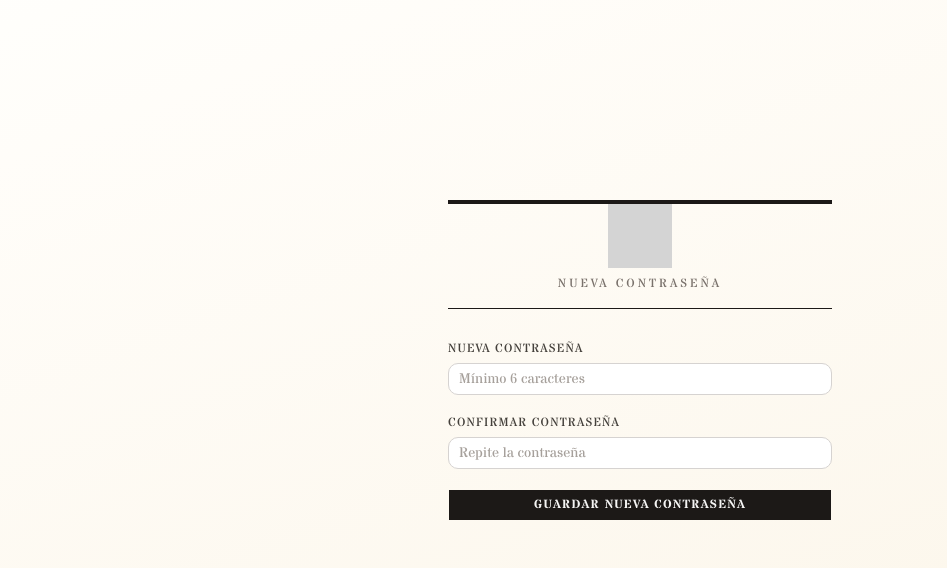
it: ResetPassword › shows error when passwords do not match
The width and height of the screenshot is (947, 568).
Type "password1" into the password field with placeholder "Mínimo 6 caracteres" at coordinates (640, 378), box [448,362,832,394]
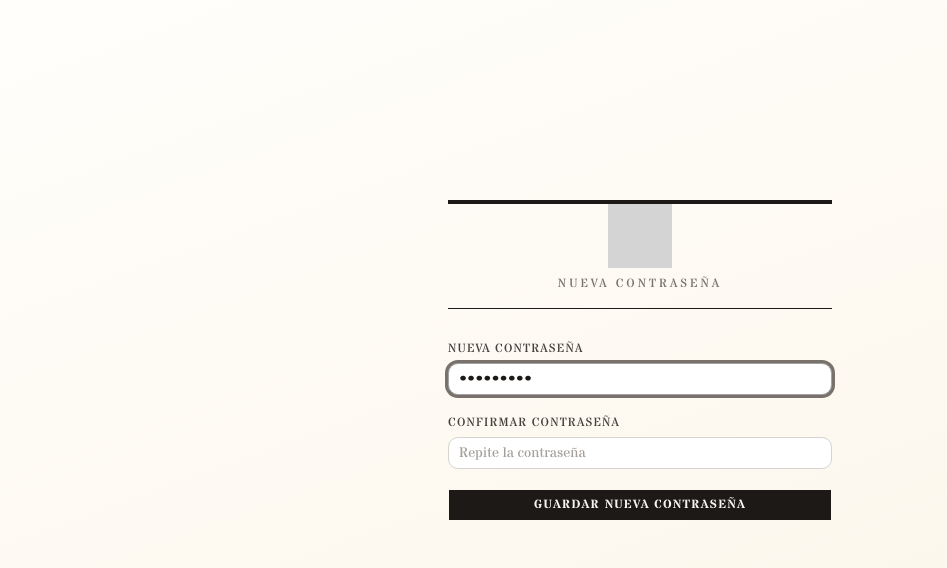
Type "different" into the password field with placeholder "Repite la contraseña" at coordinates (640, 452), box [448,436,832,468]
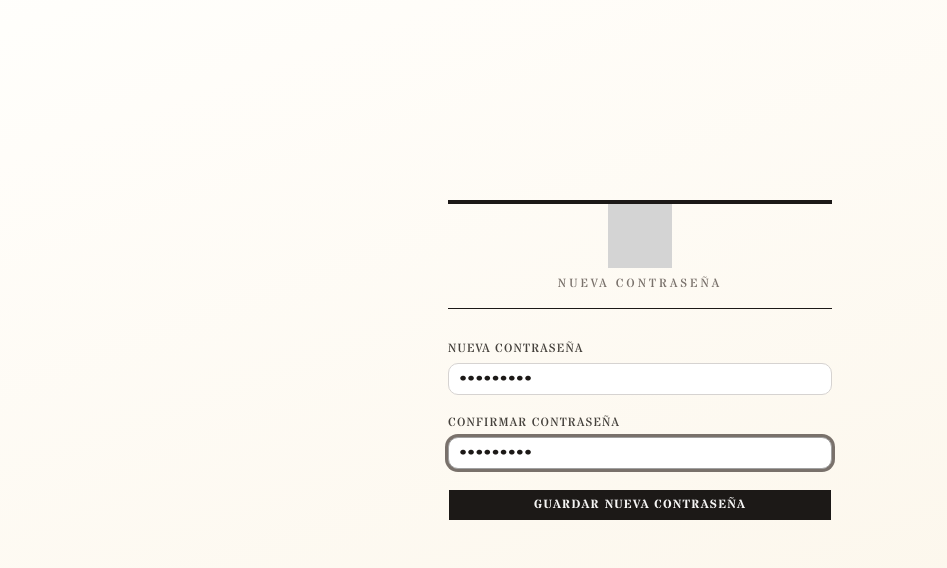
Click the button "Guardar nueva contraseña" at coordinates (640, 504), box [448,488,832,520]
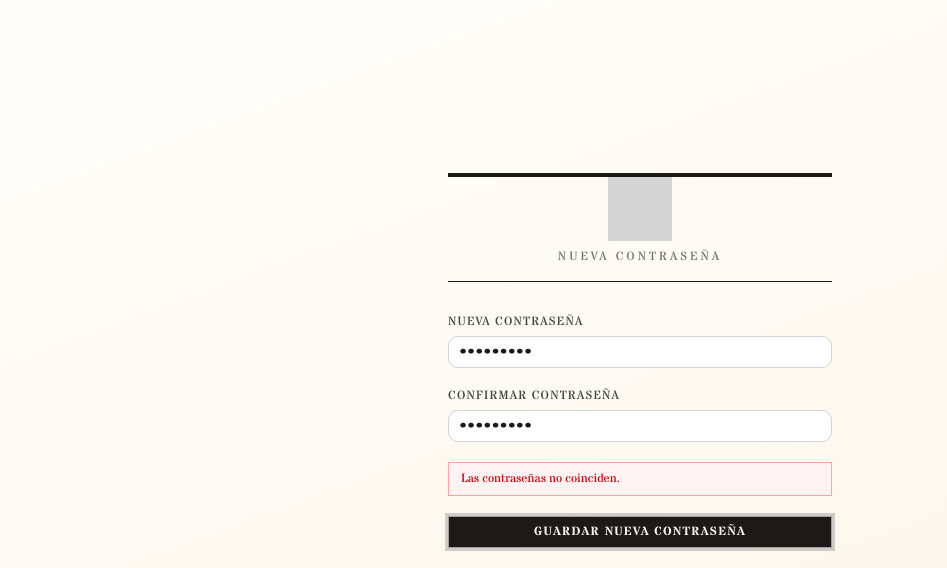
Now the text "Las contraseñas no coinciden." is shown, box [448,462,832,496]
